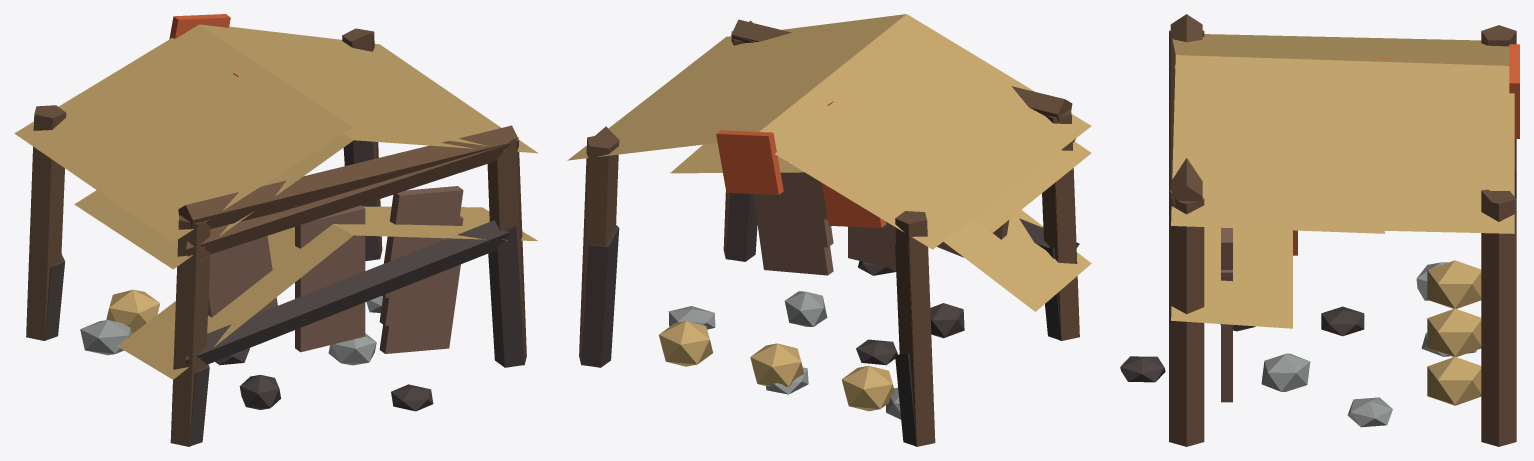
File: forager_lodge_stages.glb
The picture shows the model from 3 angles, left to right: view 1: azimuth 30°, elevation 25°; view 2: azimuth 150°, elevation 25°; view 3: azimuth 270°, elevation 25°; orthographic projection. The views are drawn at different scales.
Visible parts, largest first — view 1: Stage_Intact, Stage_Critical, Stage_Damaged, Stage_Rubble; view 2: Stage_Intact, Stage_Critical, Stage_Damaged, Stage_Rubble; view 3: Stage_Intact, Stage_Critical, Stage_Damaged, Stage_Rubble.
Part boxes in pixels (<box>): Stage_Intact: <box>14,14,538,446</box>; Stage_Critical: <box>44,140,538,446</box>; Stage_Damaged: <box>44,32,537,446</box>; Stage_Rubble: <box>80,295,433,411</box>; Stage_Intact: <box>567,14,1091,446</box>; Stage_Critical: <box>581,143,1091,446</box>; Stage_Damaged: <box>579,20,1091,446</box>; Stage_Rubble: <box>668,261,964,419</box>; Stage_Intact: <box>1169,14,1519,446</box>; Stage_Critical: <box>1170,171,1516,405</box>; Stage_Damaged: <box>1169,58,1516,446</box>; Stage_Rubble: <box>1120,262,1476,427</box>.
Size of what is drawn, in the model's own units: 2.6 by 1.95 by 2.28.
